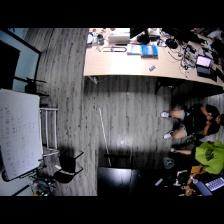normal: (160, 103, 224, 139), (175, 143, 224, 175)
